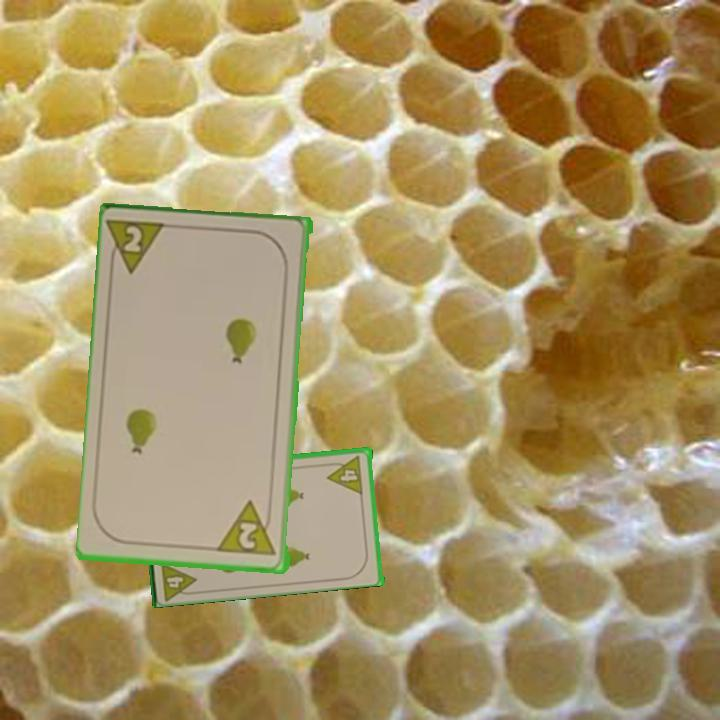2p: (106, 216, 172, 278), (216, 498, 280, 559)
4p: (157, 557, 201, 601), (324, 452, 366, 496)
